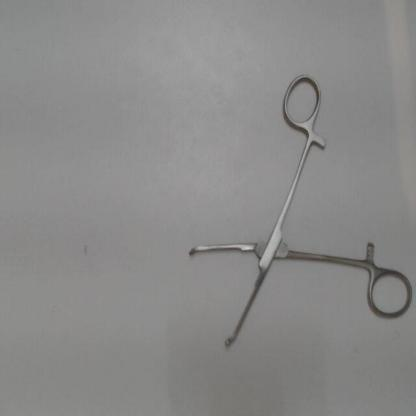Allis Tissue Forceps: (179, 62, 416, 364)
